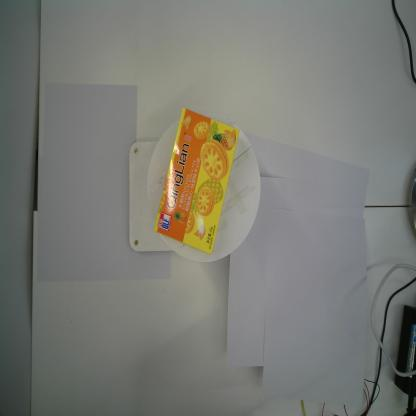Dessert: (154, 107, 240, 254)
